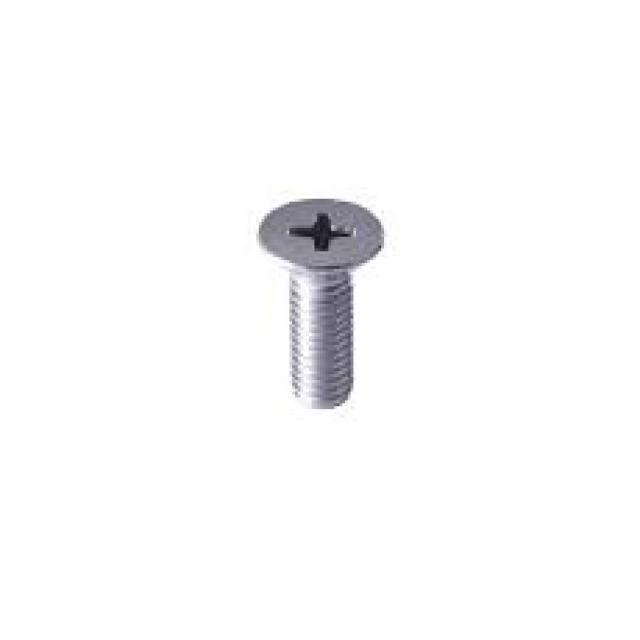Screw: (259, 199, 387, 412)
